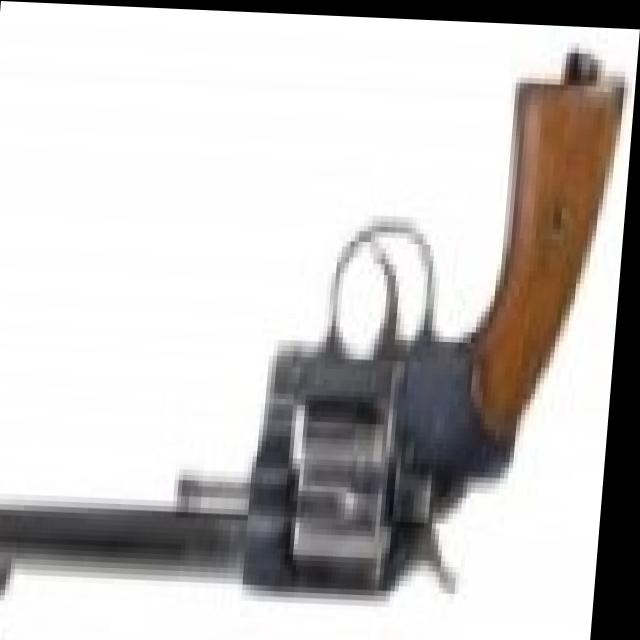handgun: (0, 53, 621, 625)
